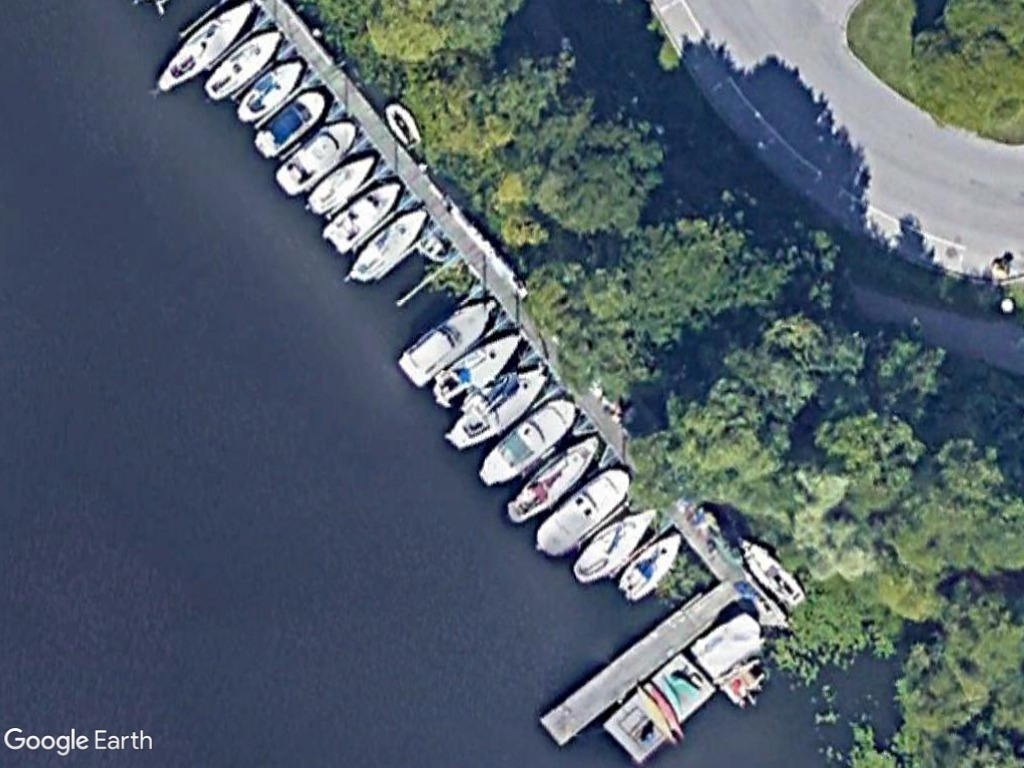boat: (392, 286, 504, 398), (501, 422, 608, 530), (529, 457, 636, 561), (474, 389, 583, 491), (150, 0, 259, 96), (440, 362, 550, 454), (428, 320, 529, 414), (569, 500, 662, 586), (318, 171, 407, 259), (196, 22, 288, 107), (271, 116, 361, 202), (344, 200, 430, 289), (250, 81, 334, 164), (735, 528, 810, 611), (302, 144, 382, 220), (615, 522, 686, 607), (230, 51, 308, 128)
